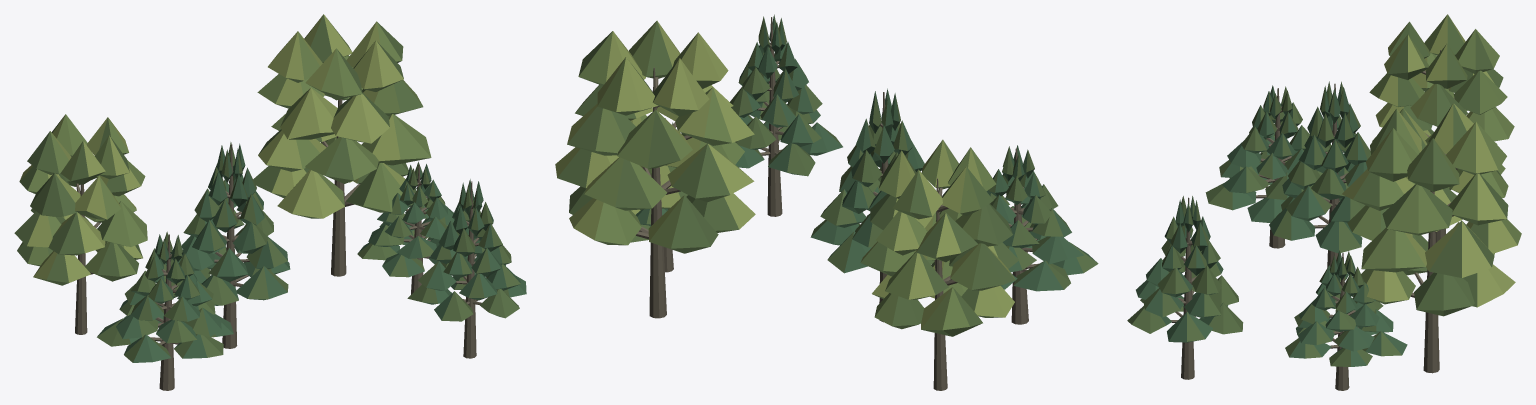
Rendered from TREE10.glb.
3 renders of one model, left to right at view 1: azimuth 30°, elevation 25°; view 2: azimuth 150°, elevation 25°; view 3: azimuth 270°, elevation 25°, orthographic. The views are drawn at different scales.
Visible parts, largest first — view 1: Fitted street and landscape details; view 2: Fitted street and landscape details; view 3: Fitted street and landscape details.
Part boxes in pixels (x1,y1,x2,y2): Fitted street and landscape details: (14, 14, 526, 390); Fitted street and landscape details: (555, 14, 1098, 390); Fitted street and landscape details: (1127, 14, 1521, 390).
Bounding box in the file's own units: 14.84 × 8.55 × 12.15.
